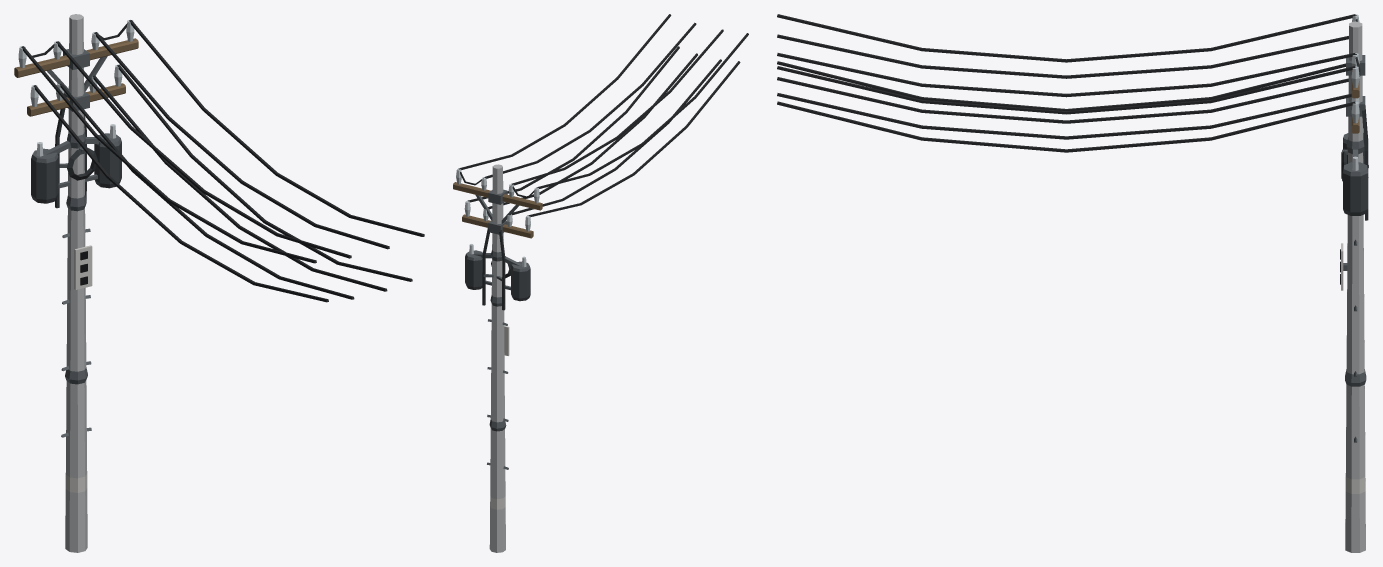
Rendered from pole.glb.
3 renders of one model, left to right at view 1: azimuth 30°, elevation 25°; view 2: azimuth 150°, elevation 25°; view 3: azimuth 270°, elevation 25°, orthographic. The views are drawn at different scales.
Visible parts, largest first — view 1: utility-pole-mesh; view 2: utility-pole-mesh; view 3: utility-pole-mesh.
Part boxes in pixels (x1,y1,x2,y2): utility-pole-mesh: [14, 14, 424, 552]; utility-pole-mesh: [453, 14, 748, 552]; utility-pole-mesh: [777, 14, 1368, 552].
Bounding box in the file's own units: 1.9 × 8 × 8.19.
